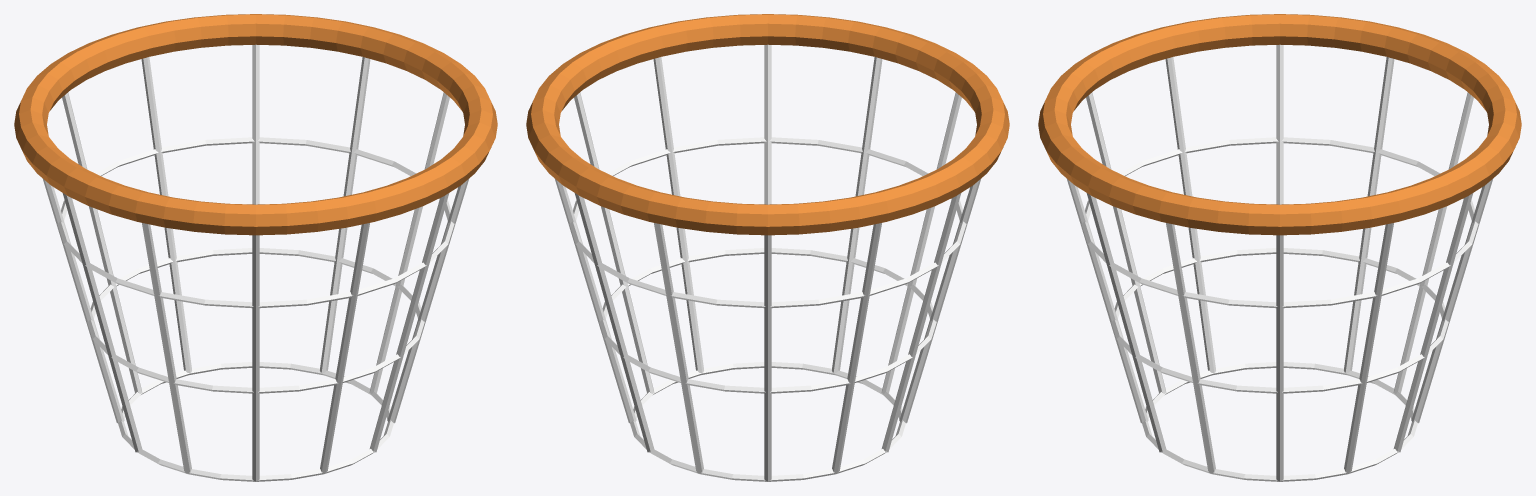
File: Hoop.fbx
The picture shows the model from 3 angles, left to right: view 1: azimuth 30°, elevation 25°; view 2: azimuth 150°, elevation 25°; view 3: azimuth 270°, elevation 25°; orthographic projection.
Parts seen in each view (by area): view 1: HoopNet, HoopRim; view 2: HoopNet, HoopRim; view 3: HoopNet, HoopRim.
Boxes of the visible parts, x1,y1,x2,y2 form: HoopNet: (43, 44, 468, 481); HoopRim: (14, 14, 497, 235); HoopNet: (555, 44, 980, 481); HoopRim: (526, 14, 1009, 235); HoopNet: (1067, 44, 1492, 481); HoopRim: (1038, 14, 1521, 235).
Bounding box in the file's own units: 59 × 42.4 × 59.
